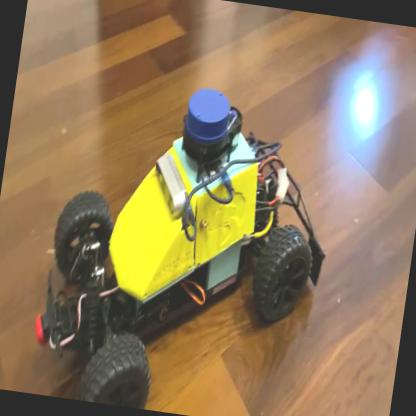mushr_car: (23, 52, 347, 415)
